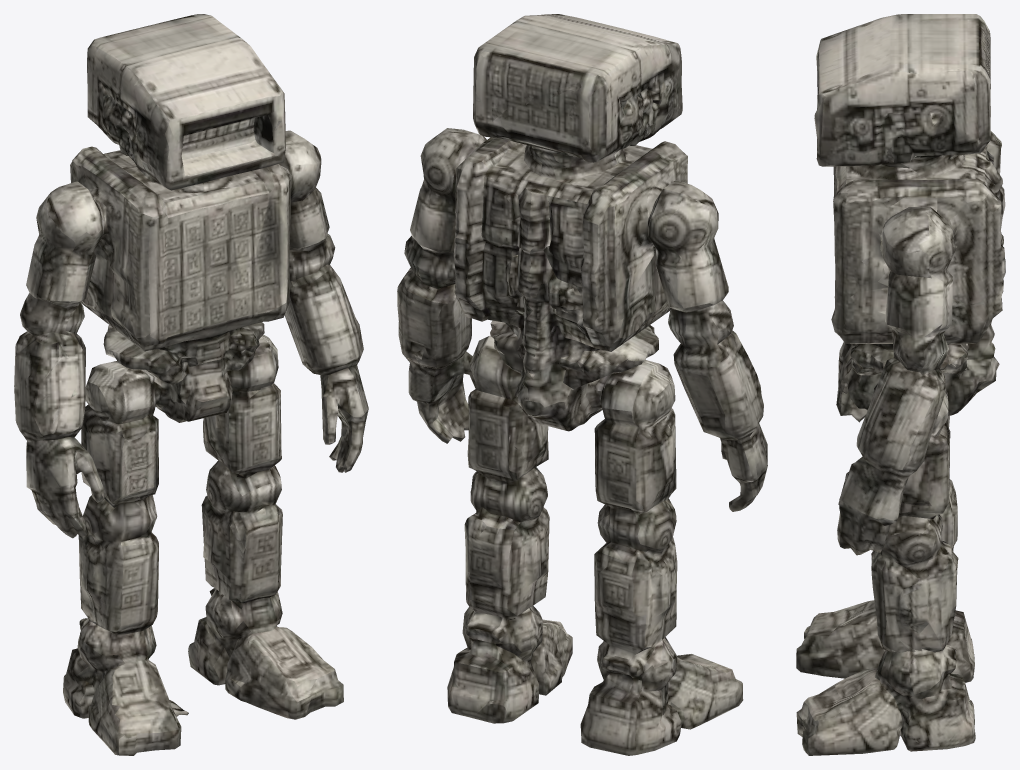
File: robot.glb
3 renders of one model, left to right at view 1: azimuth 30°, elevation 25°; view 2: azimuth 150°, elevation 25°; view 3: azimuth 270°, elevation 25°, orthographic. The views are drawn at different scales.
Parts seen in each view (by area): view 1: geometry_0; view 2: geometry_0; view 3: geometry_0.
Part boxes in pixels (x1=…): geometry_0: x1=14, y1=14, x2=368, y2=755; geometry_0: x1=397, y1=14, x2=767, y2=755; geometry_0: x1=796, y1=14, x2=1005, y2=755.
Bounding box in the file's own units: 1.09 × 1.99 × 0.5728.
1 material, 1 textured.
